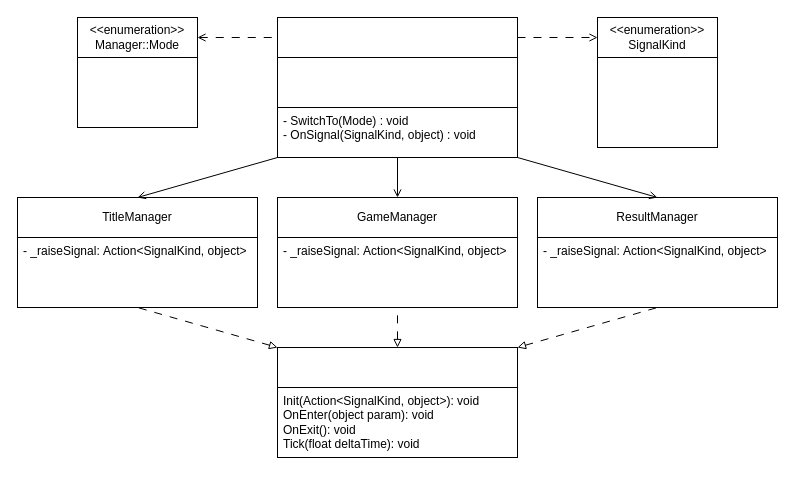
Image size: 795x484. Some labels were removed from this diagram. Each missing label, with the box of its shape:
- _mode : Mode: (276, 56, 518, 108)
<<interface>> IModeManager: (276, 346, 518, 388)
Manager: (276, 16, 518, 58)
None Title Game Result: (76, 56, 198, 128)
StartGame GameOver Retry ReturnTitle: (596, 56, 718, 148)
